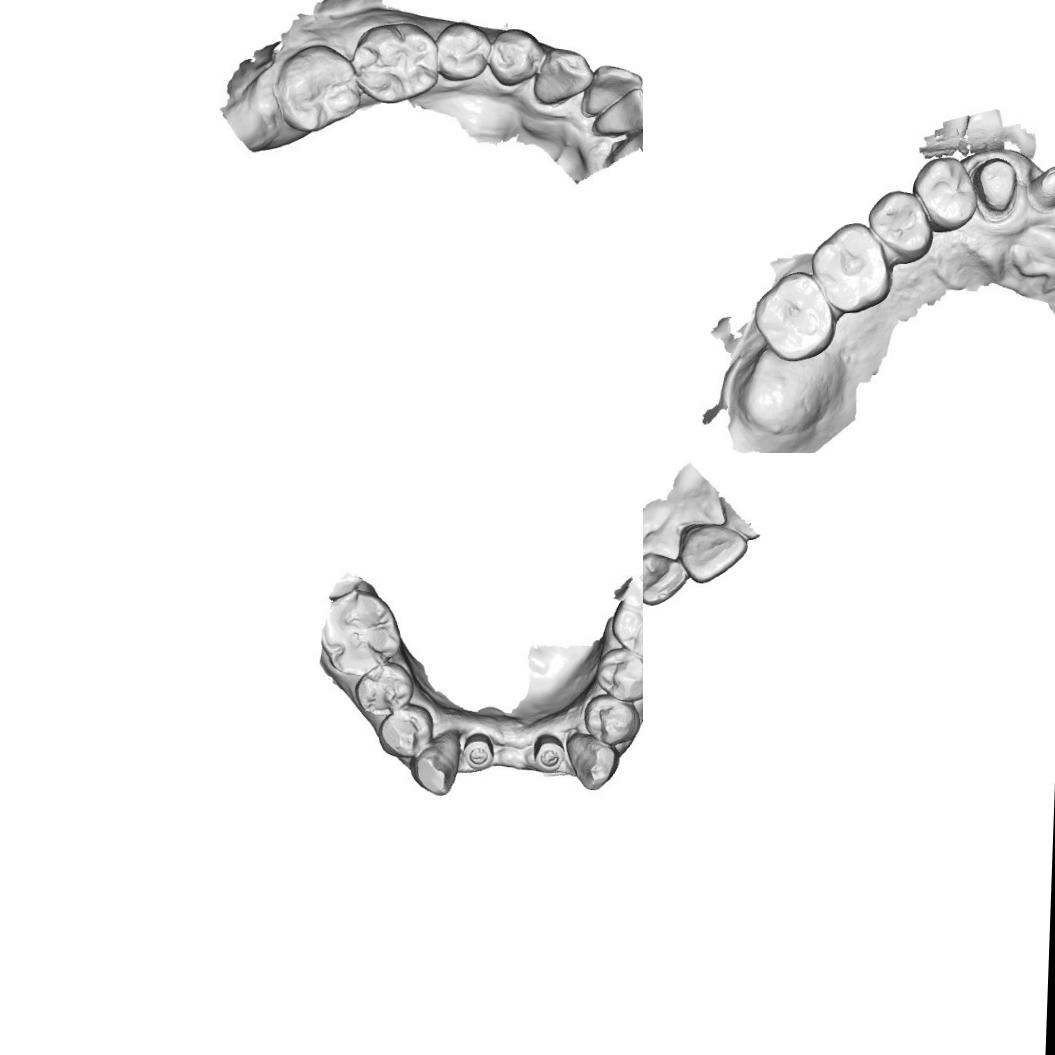abutment: (1032, 163, 1055, 213)
canine: (533, 48, 592, 106), (568, 732, 621, 796), (414, 731, 462, 800)
crown: (972, 150, 1019, 218)
implant: (464, 734, 492, 774), (537, 734, 564, 772)
incisor: (678, 520, 744, 585), (579, 62, 643, 122), (595, 85, 643, 143), (643, 553, 689, 609)
molar: (753, 270, 842, 367), (273, 40, 362, 136), (807, 218, 891, 316), (320, 590, 400, 679), (354, 24, 438, 100), (612, 571, 643, 660)
premolar: (908, 156, 984, 233), (863, 180, 934, 261), (354, 660, 416, 720), (438, 20, 491, 83), (584, 695, 643, 746), (375, 706, 429, 759), (493, 24, 542, 82), (596, 646, 643, 703)
